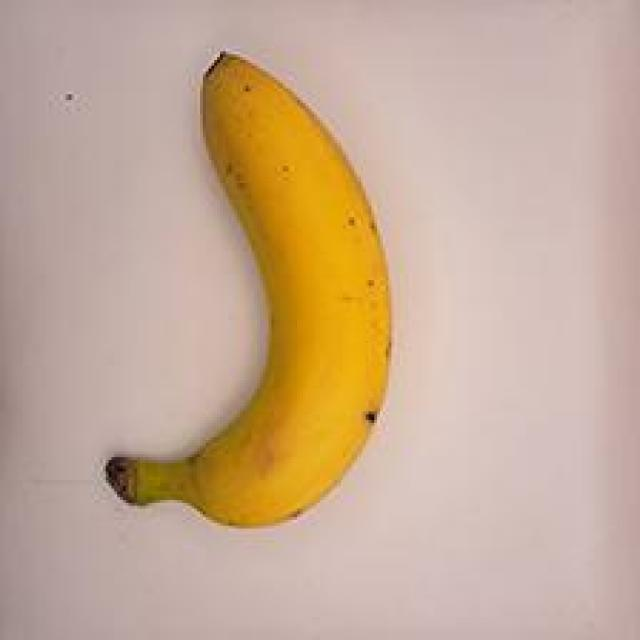Ripe: (78, 46, 437, 543)
